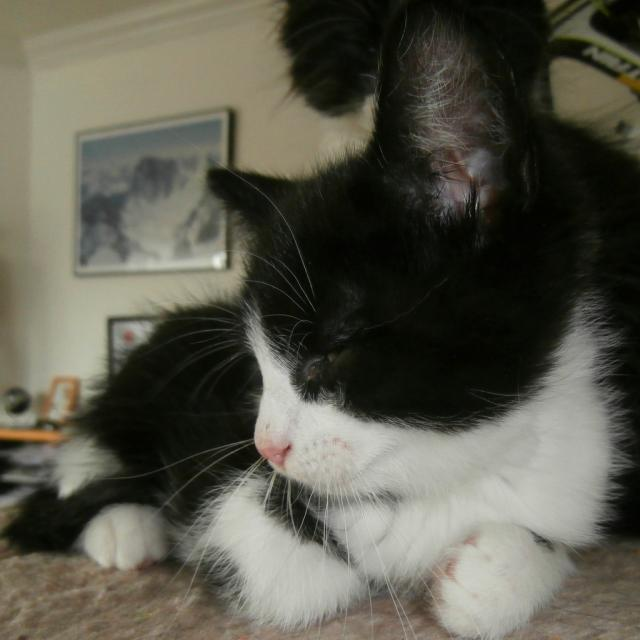Cat: (0, 4, 639, 638)
